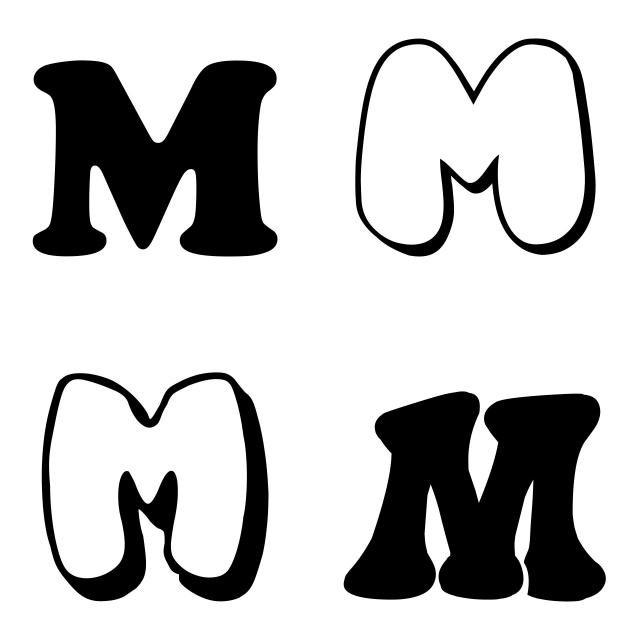M: (22, 32, 298, 282)
